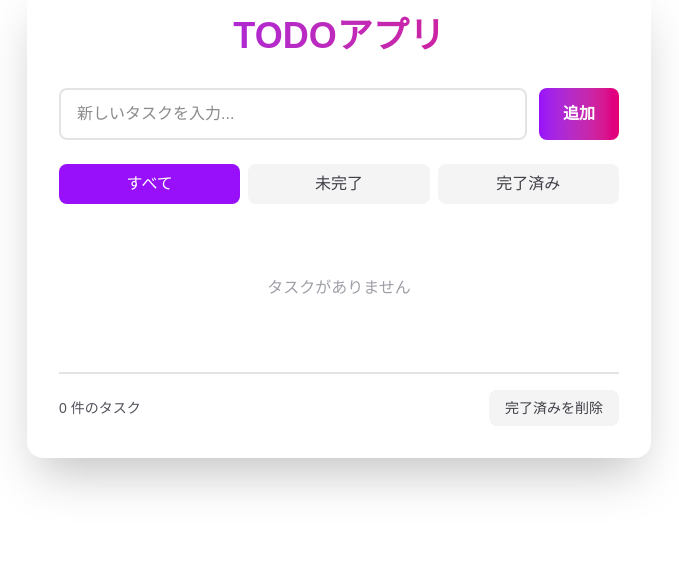
Test: TodoList › タスクの削除 › 複数のタスクから特定のタスクだけ削除できること
The image size is (679, 587).
Type "タスク1" into the field with placeholder "新しいタスクを入力...". click: (293, 114)
box: [59, 88, 527, 140]
Then press Enter
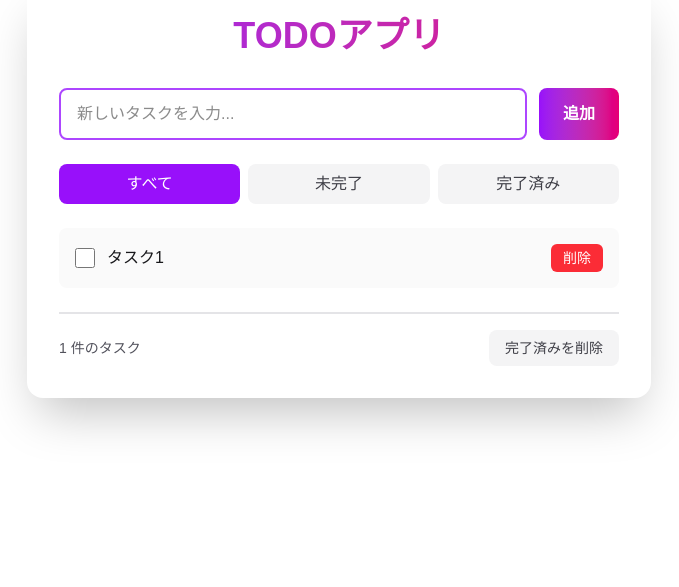
Type "タスク2" into the field with placeholder "新しいタスクを入力...". click: (293, 114)
box: [59, 88, 527, 140]
Then press Enter
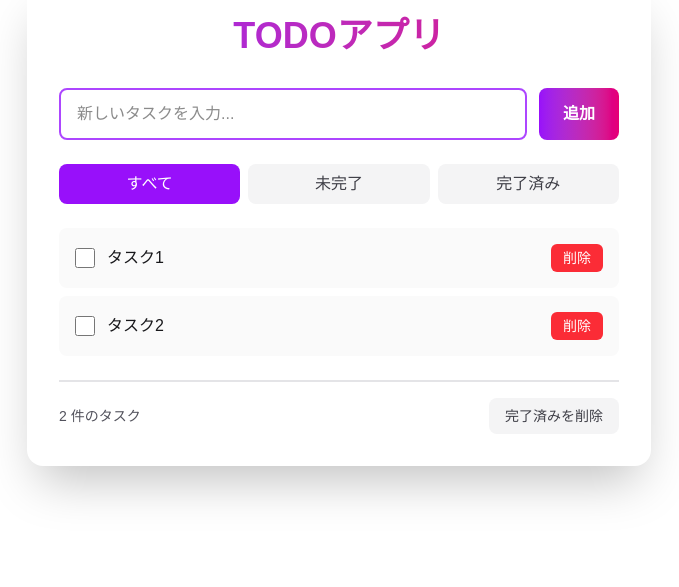
Type "タスク3" into the field with placeholder "新しいタスクを入力...". click: (293, 114)
box: [59, 88, 527, 140]
Then press Enter
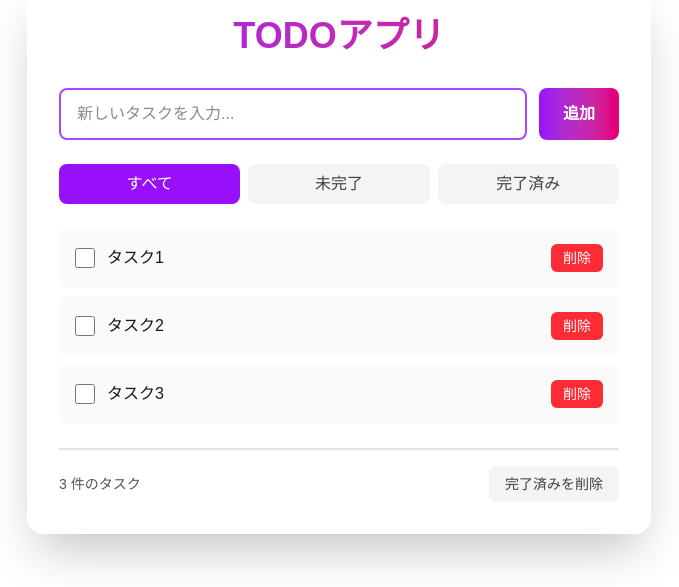
Click the button "削除" in the row of "タスク2". click: (577, 326)
box: [551, 312, 603, 340]
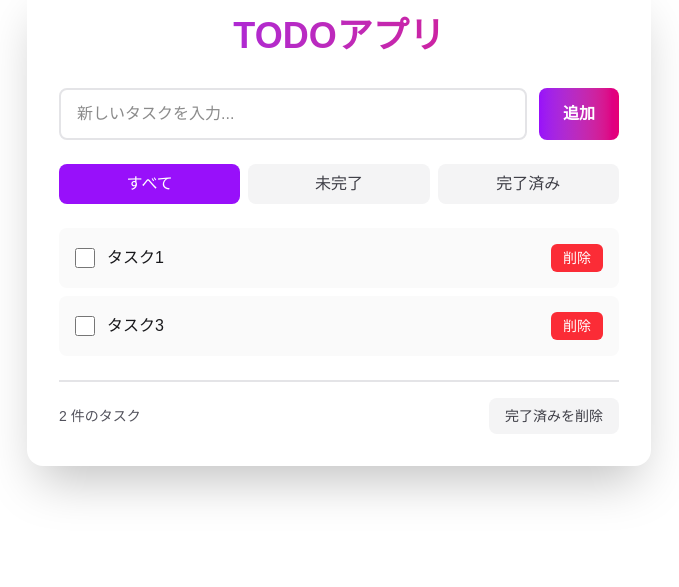
Check: the text "タスク1" is shown, box [107, 249, 164, 266]
Check: the text "タスク3" is shown, box [107, 317, 164, 334]
Check: the text "タスク2" is gone
